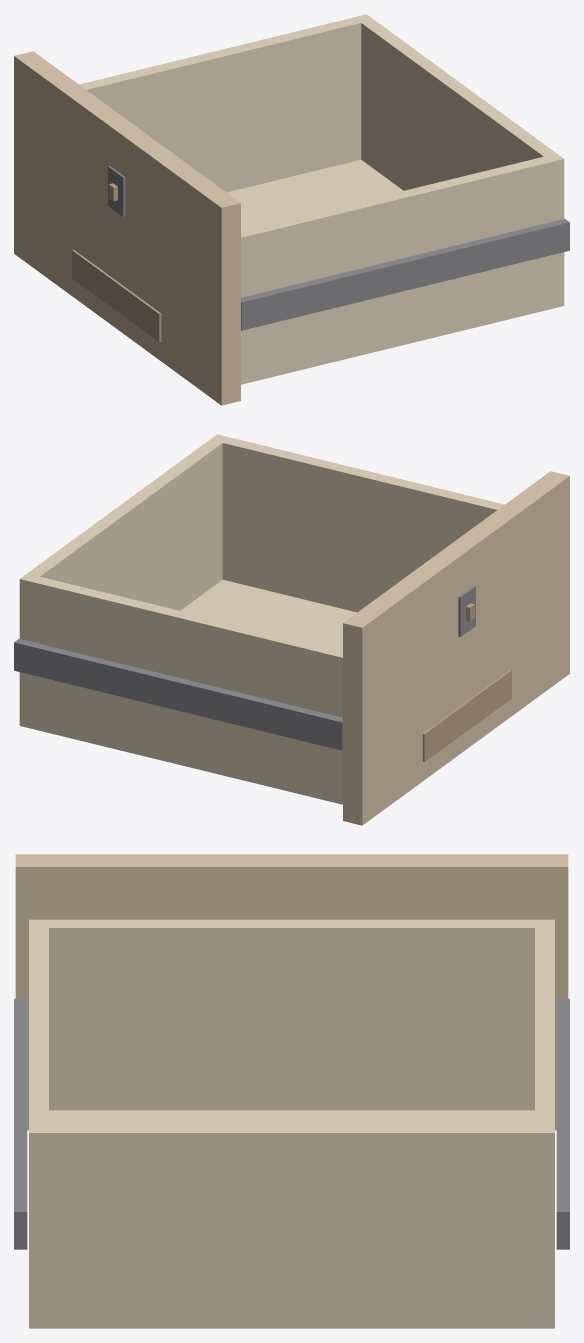
Rendered from drawer_top.glb.
3 renders of one model, top to bottom at view 1: azimuth 30°, elevation 25°; view 2: azimuth 150°, elevation 25°; view 3: azimuth 270°, elevation 25°, orthographic. The views are drawn at different scales.
Parts seen in each view (by area): view 1: front, wall_z1, wall_z0, wall_x1, rail_r, floor, pull, wall_x0, lock_plate; view 2: front, wall_z0, wall_z1, wall_x1, rail_l, floor, pull, wall_x0, lock_plate; view 3: wall_x1, wall_x0, front, floor, wall_z0, wall_z1, rail_l, rail_r.
Part boxes in pixels (x1,y1,x2,y2): front: (14, 51, 240, 405); wall_z1: (242, 156, 551, 372); wall_z0: (79, 17, 361, 192); wall_x1: (354, 14, 564, 298); rail_r: (241, 219, 569, 330); floor: (227, 160, 564, 384); pull: (72, 250, 161, 342); wall_x0: (241, 230, 248, 374); lock_plate: (108, 166, 125, 217); front: (343, 471, 569, 825); wall_z0: (32, 576, 341, 792); wall_z1: (222, 437, 504, 612); wall_x1: (19, 434, 229, 718); rail_l: (14, 639, 342, 750); floor: (19, 580, 356, 804); pull: (422, 670, 511, 762); wall_x0: (335, 650, 342, 794); lock_plate: (458, 586, 475, 637); wall_x1: (29, 1124, 554, 1314); wall_x0: (29, 919, 554, 1110); front: (15, 854, 568, 1130); floor: (29, 1110, 554, 1328); wall_z0: (535, 928, 554, 1124); wall_z1: (29, 928, 48, 1124); rail_l: (556, 998, 569, 1249); rail_r: (14, 998, 27, 1249).
Size of the model in its own units: 0.328 by 0.175 by 0.335.
